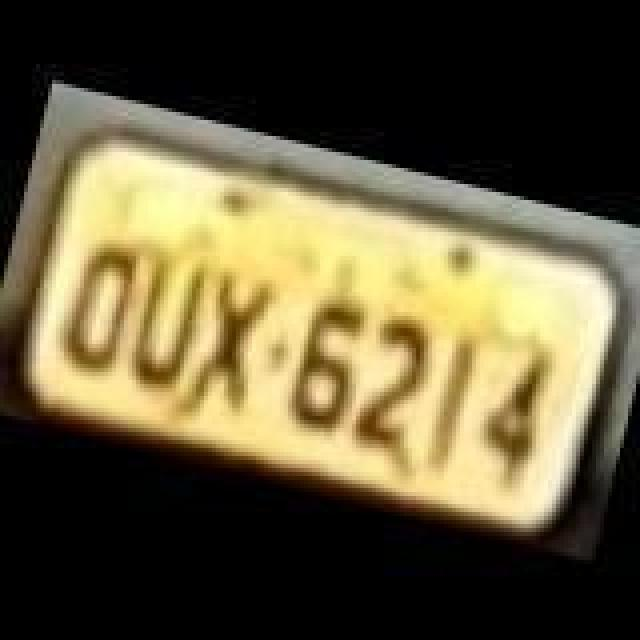1: (416, 328, 488, 472)
2: (346, 308, 438, 460)
4: (466, 338, 558, 494)
6: (276, 294, 372, 442)
O: (48, 236, 144, 380)
U: (114, 246, 214, 394)
X: (184, 266, 280, 414)
